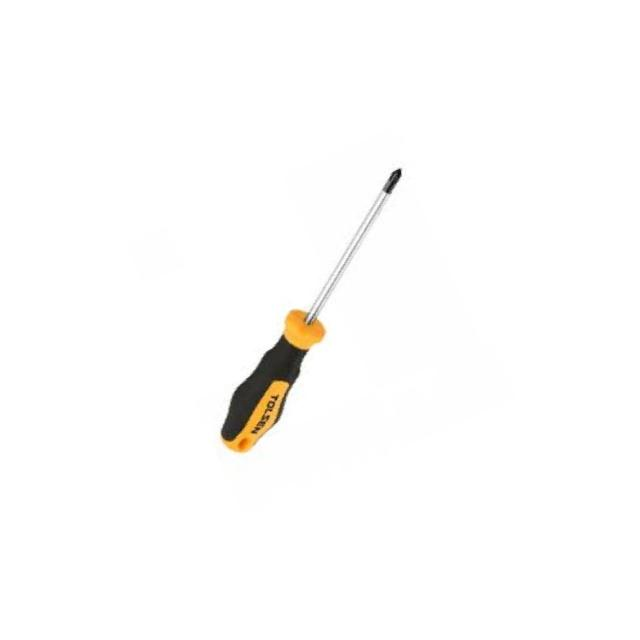screwdriver: (147, 164, 482, 462)
